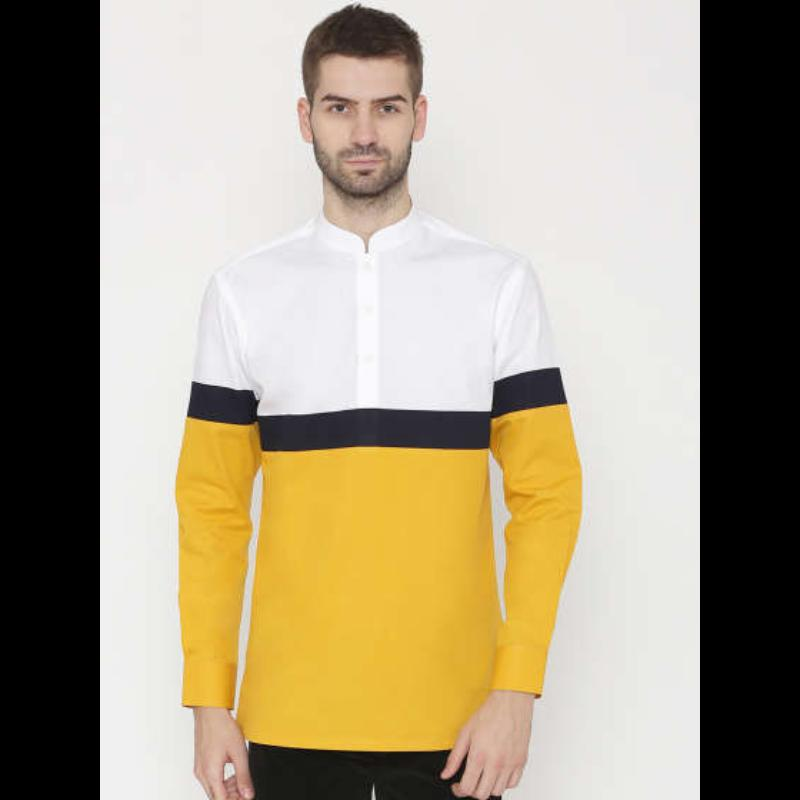Jeans: (243, 748, 502, 800)
Shirt: (174, 217, 610, 749)
